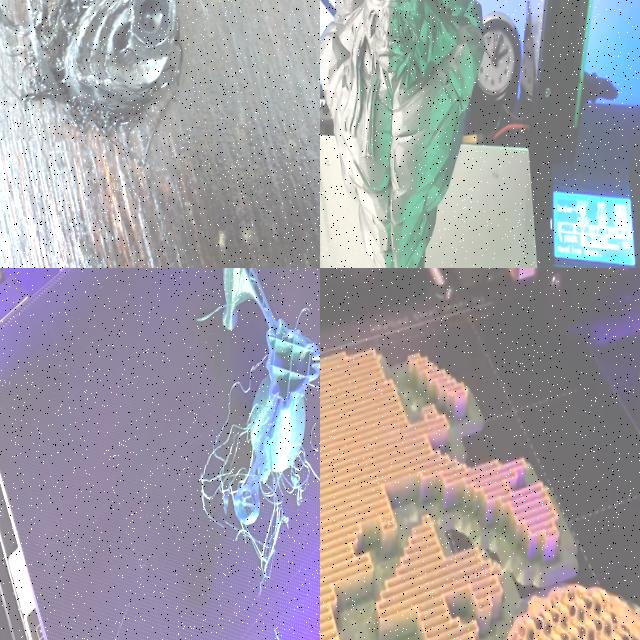spaghetti: (0, 0, 124, 147), (250, 434, 320, 531), (199, 396, 244, 534), (240, 530, 306, 596)
